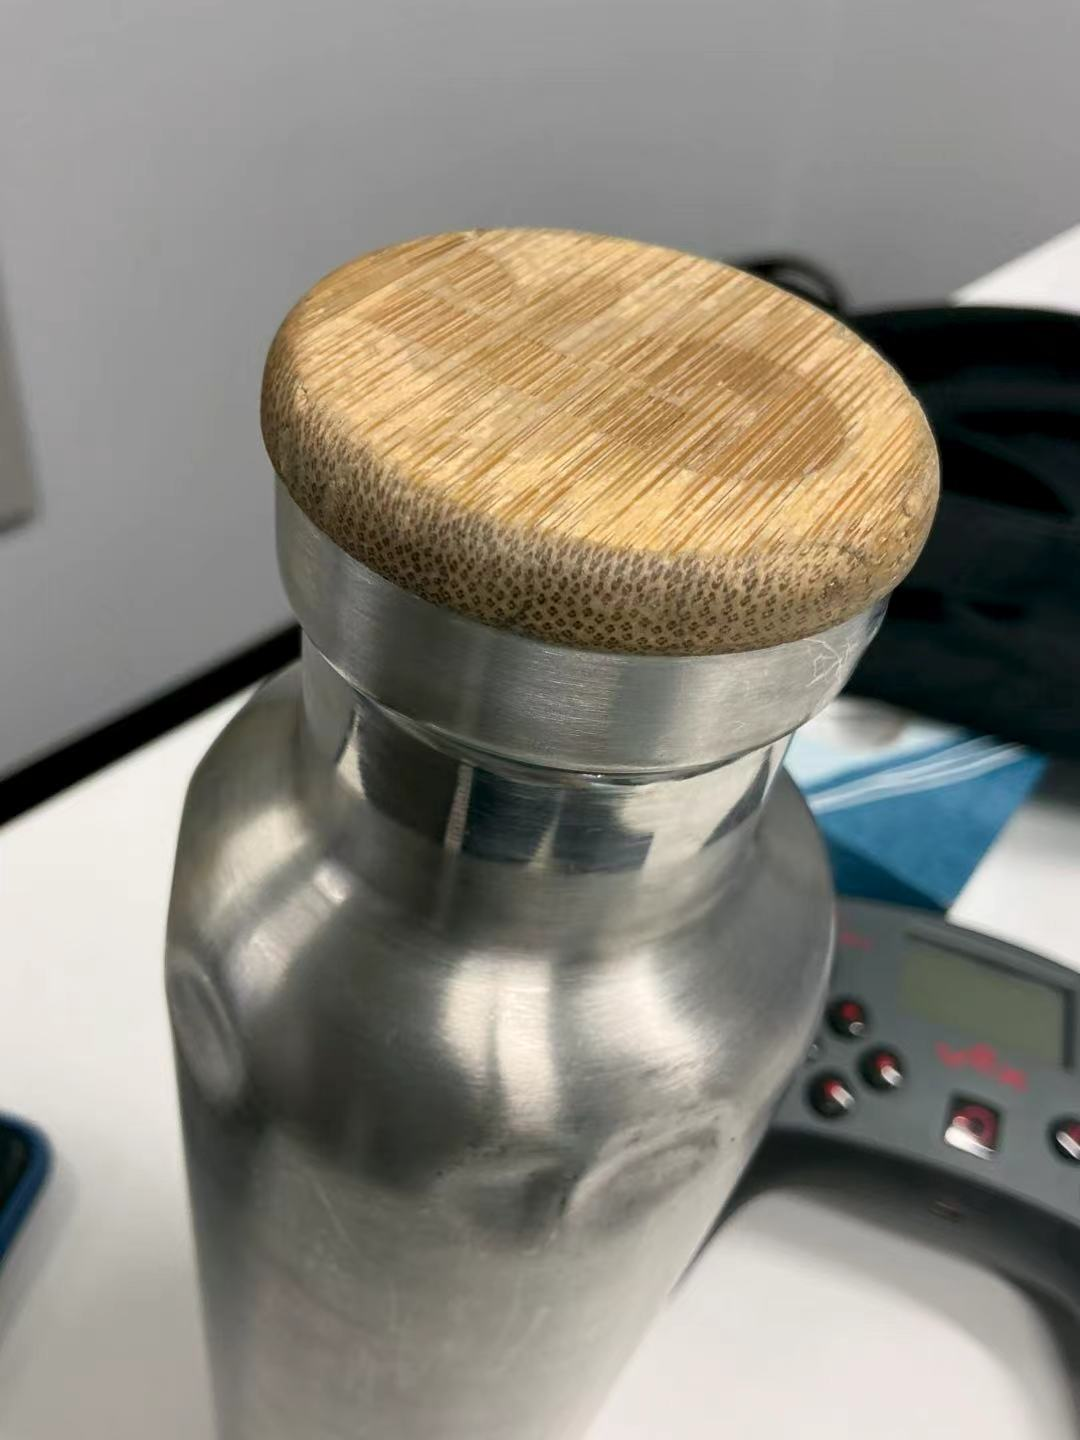Water_Bottle: (128, 184, 938, 1440)
